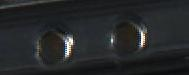joints: (31, 23, 75, 67), (106, 14, 148, 58)
